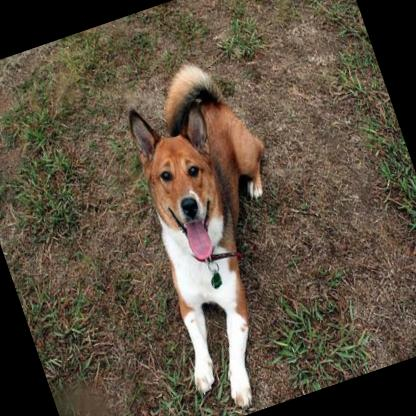Cardigan: (94, 47, 343, 416)
